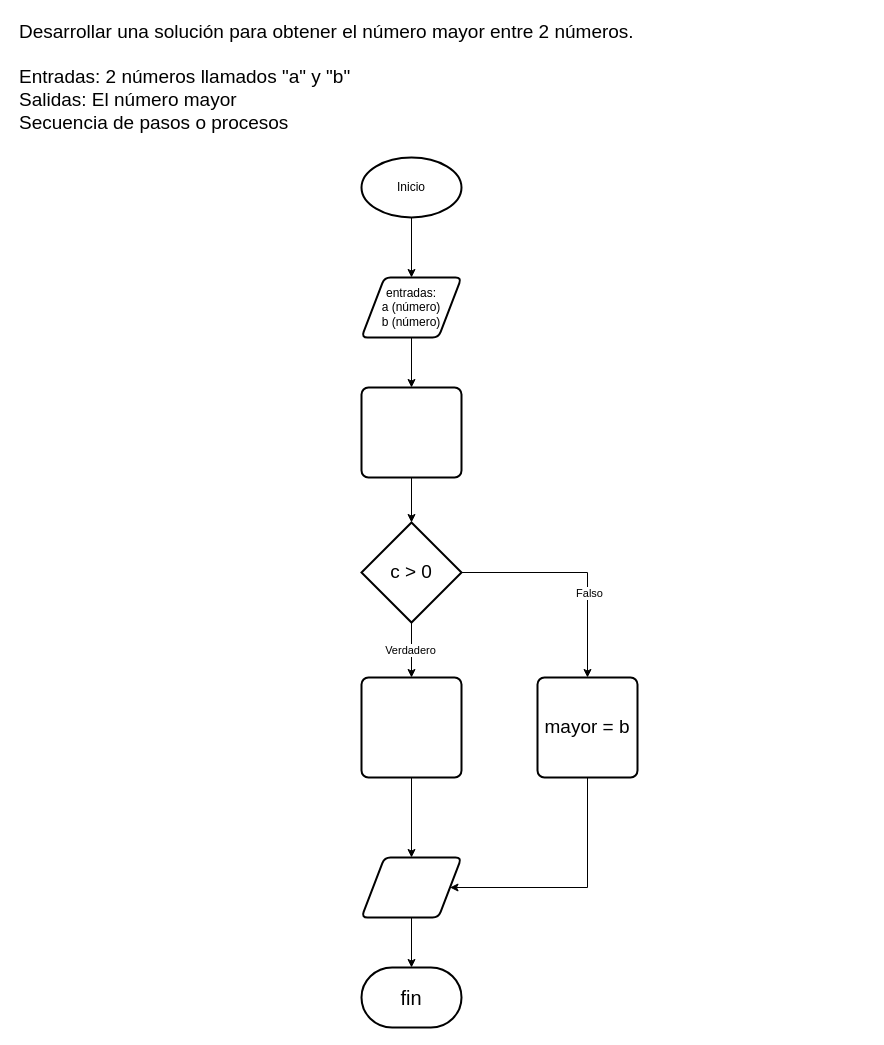
Image size: 884x1045. Some labels were removed from this diagram. The shapes that lost their labels are listed below. From the top down, each one's centre as x and y in pixels, then its label:
At [411,432]: "c = a - b".
At [411,727]: "mayor = a".
At [411,887]: "salida mayor".
